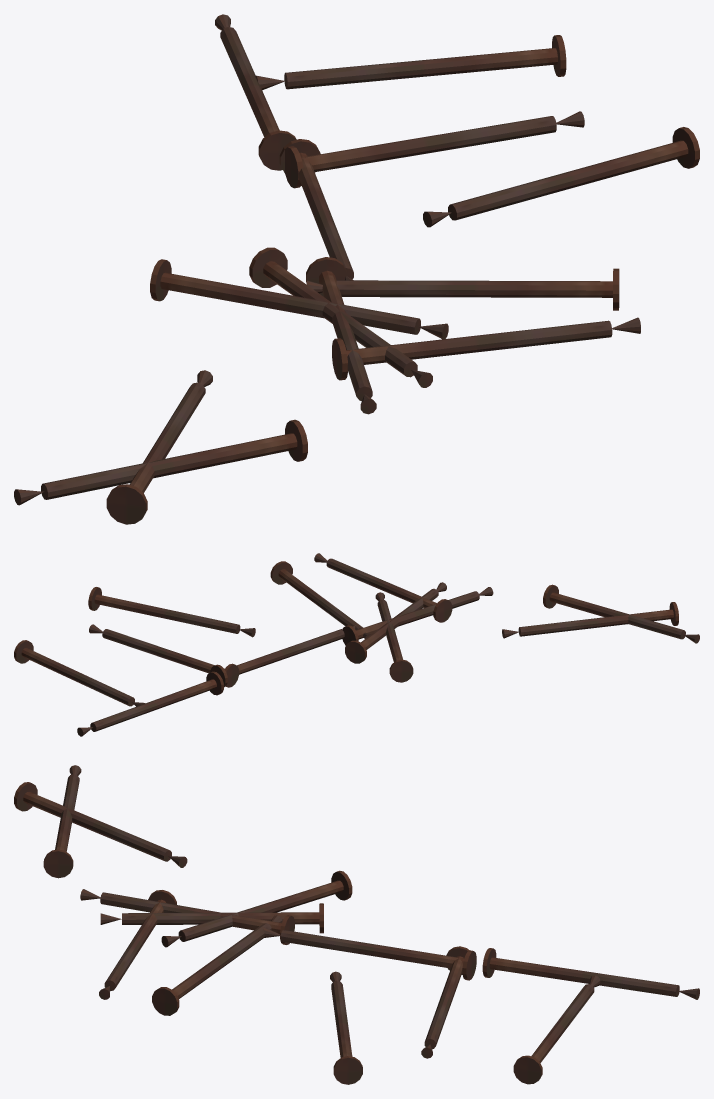
File: EST-PRG-002_lod1.glb
3 views of the same model, one above another, from view 1: azimuth 30°, elevation 25°; view 2: azimuth 150°, elevation 25°; view 3: azimuth 270°, elevation 25° (orthographic). The views are drawn at different scales.
Visible parts, largest first — view 1: Prego 17x27, Prego 17x27.008, Prego 17x27.002, Prego 17x27.003, Prego 17x27.010, Prego 17x27.005, Prego 17x27.006, Prego 17x27.011, Prego 17x27.001, Prego 17x27.007, Prego 17x27.009, Prego 17x27.004; view 2: Prego 17x27.008, Prego 17x27.001, Prego 17x27.007, Prego 17x27.010, Prego 17x27, Prego 17x27.005, Prego 17x27.002, Prego 17x27.004, Prego 17x27.003, Prego 17x27.009, Prego 17x27.011, Prego 17x27.006; view 3: Prego 17x27.007, Prego 17x27.004, Prego 17x27.001, Prego 17x27.006, Prego 17x27.003, Prego 17x27.011, Prego 17x27.009, Prego 17x27, Prego 17x27.008, Prego 17x27.010, Prego 17x27.005, Prego 17x27.002.
Part boxes in pixels (x1,y1,x2,y2): Prego 17x27: (255,35,566,90); Prego 17x27.008: (423,127,699,227); Prego 17x27.002: (285,111,584,188); Prego 17x27.003: (306,268,619,310); Prego 17x27.010: (14,419,307,505); Prego 17x27.005: (332,317,640,380); Prego 17x27.006: (150,259,448,339); Prego 17x27.011: (249,247,432,387); Prego 17x27.001: (106,370,212,524); Prego 17x27.007: (215,14,296,170); Prego 17x27.009: (306,257,376,414); Prego 17x27.004: (279,139,353,280); Prego 17x27.008: (88,587,255,637); Prego 17x27.001: (502,602,678,638); Prego 17x27.007: (77,671,223,736); Prego 17x27.010: (543,584,699,643); Prego 17x27: (14,640,145,706); Prego 17x27.005: (314,553,452,622); Prego 17x27.002: (89,624,239,687); Prego 17x27.004: (210,624,355,687); Prego 17x27.003: (270,561,371,638); Prego 17x27.009: (342,587,493,645); Prego 17x27.011: (345,582,446,663); Prego 17x27.006: (375,592,413,682); Prego 17x27.007: (482,948,699,999); Prego 17x27.004: (262,927,476,980); Prego 17x27.001: (14,782,187,867); Prego 17x27.006: (161,870,352,947); Prego 17x27.003: (152,915,282,1015); Prego 17x27.011: (100,903,323,933); Prego 17x27.009: (80,889,294,944); Prego 17x27: (513,975,600,1084); Prego 17x27.008: (330,971,362,1084); Prego 17x27.010: (43,765,81,878); Prego 17x27.005: (99,890,176,999); Prego 17x27.002: (421,946,469,1058).
Size of the model in its own units: 0.2005 by 0.0084 by 0.1923.
1 material, 1 textured.
